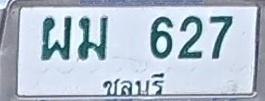2: (178, 16, 202, 58)
6: (150, 16, 173, 58)
7: (209, 15, 233, 59)
A28: (41, 16, 72, 60)
A33: (77, 15, 108, 60)
CBI: (98, 69, 165, 97)
